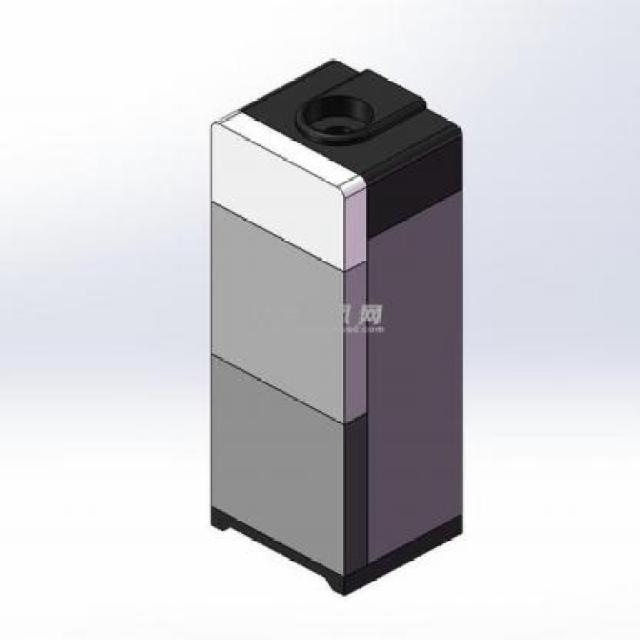cooler: (205, 52, 468, 596)
